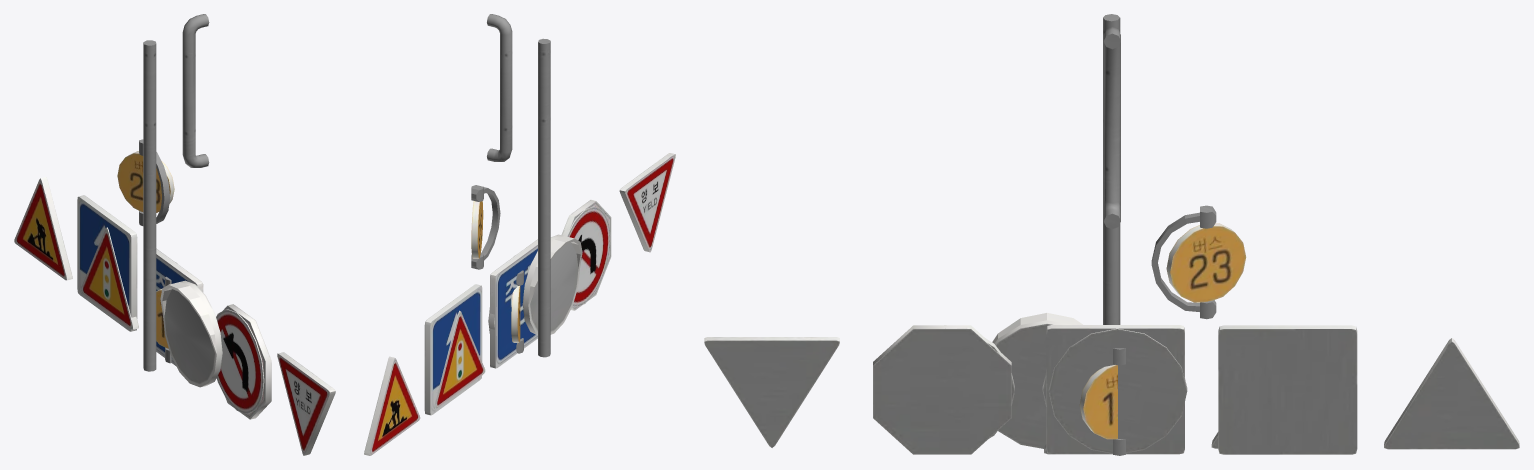
File: trafficsigns.glb
The picture shows the model from 3 angles, left to right: view 1: azimuth 30°, elevation 25°; view 2: azimuth 150°, elevation 25°; view 3: azimuth 270°, elevation 25°; orthographic projection. The views are drawn at different scales.
Parts seen in each view (by area): view 1: trafficsigns_001, trafficsigns_004, trafficsigns_000, trafficsigns_003, trafficsigns_002; view 2: trafficsigns_001, trafficsigns_004, trafficsigns_003, trafficsigns_000, trafficsigns_002; view 3: trafficsigns_001, trafficsigns_000, trafficsigns_003, trafficsigns_004, trafficsigns_002.
Part boxes in pixels (<box>): trafficsigns_001: <box>14,177,335,455</box>; trafficsigns_004: <box>80,227,264,414</box>; trafficsigns_000: <box>117,139,222,387</box>; trafficsigns_003: <box>143,14,209,371</box>; trafficsigns_002: <box>156,276,171,363</box>; trafficsigns_001: <box>364,153,675,455</box>; trafficsigns_004: <box>434,206,610,408</box>; trafficsigns_003: <box>487,14,550,357</box>; trafficsigns_000: <box>471,185,582,335</box>; trafficsigns_002: <box>511,270,523,353</box>; trafficsigns_001: <box>704,325,1519,454</box>; trafficsigns_000: <box>992,205,1246,448</box>; trafficsigns_003: <box>1103,14,1120,324</box>; trafficsigns_004: <box>944,325,1218,454</box>; trafficsigns_002: <box>1079,348,1126,455</box>.
Size of the model in its own units: 0.3466 by 1.82 by 3.07.
1 material, 1 textured.
